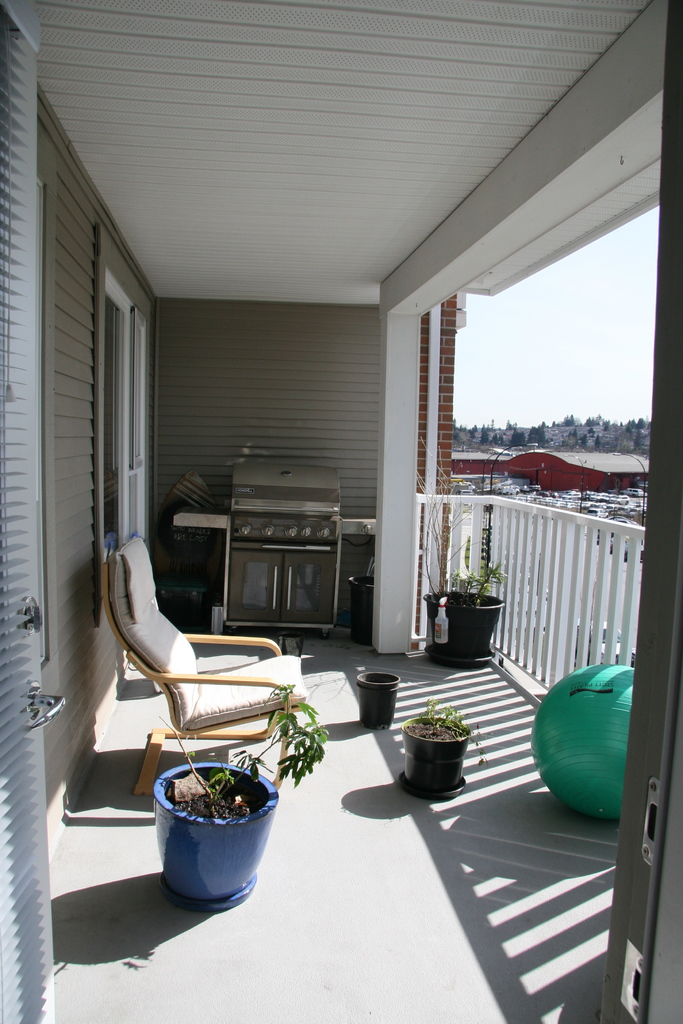Ball: (529, 662, 632, 827)
